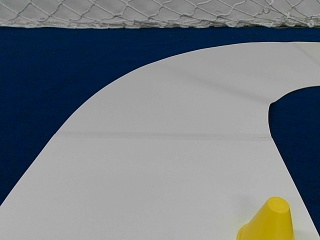cone: (236, 197, 292, 237)
